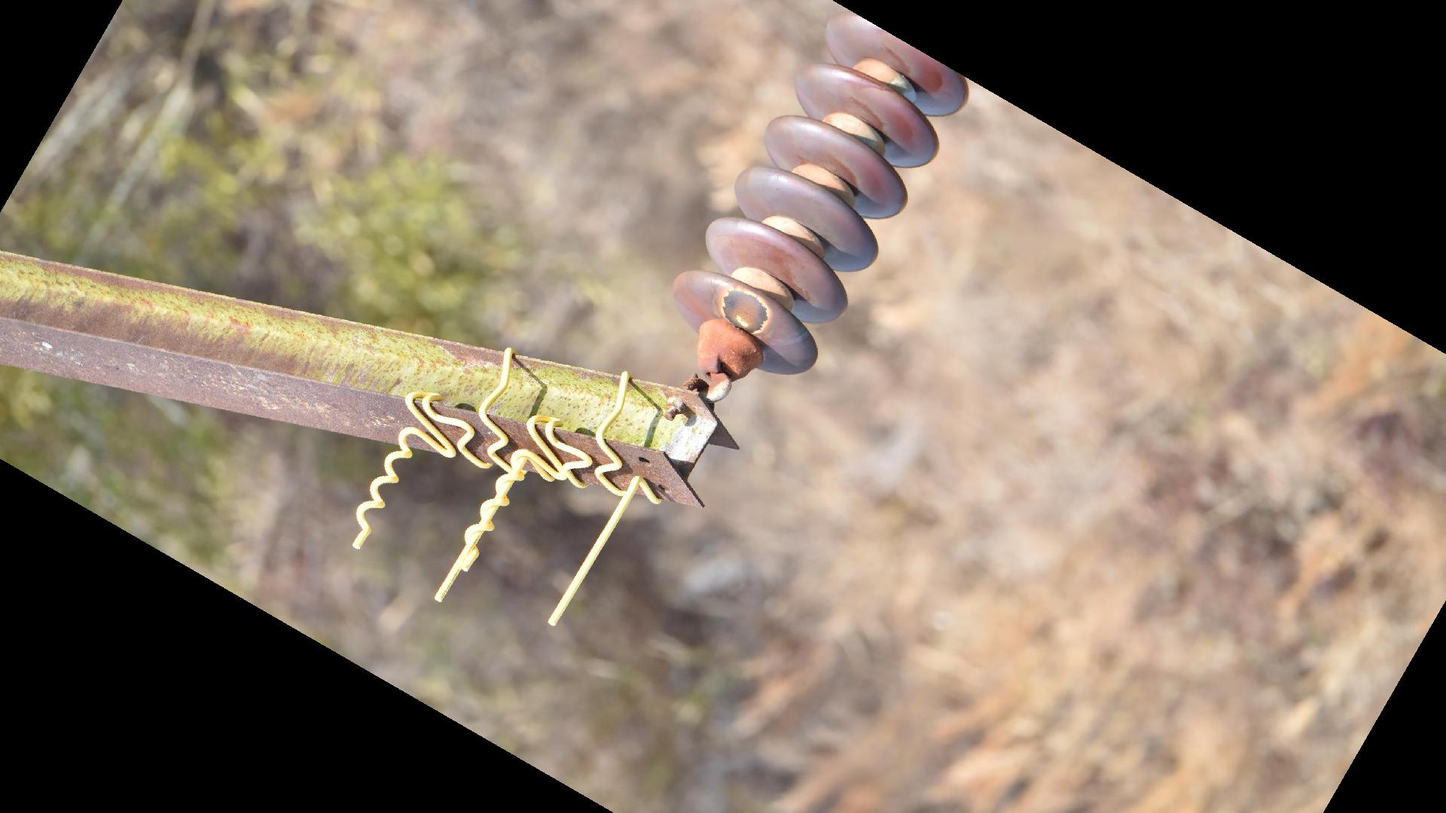insulator: (667, 10, 976, 381)
insulator_flashover: (718, 285, 772, 337)
